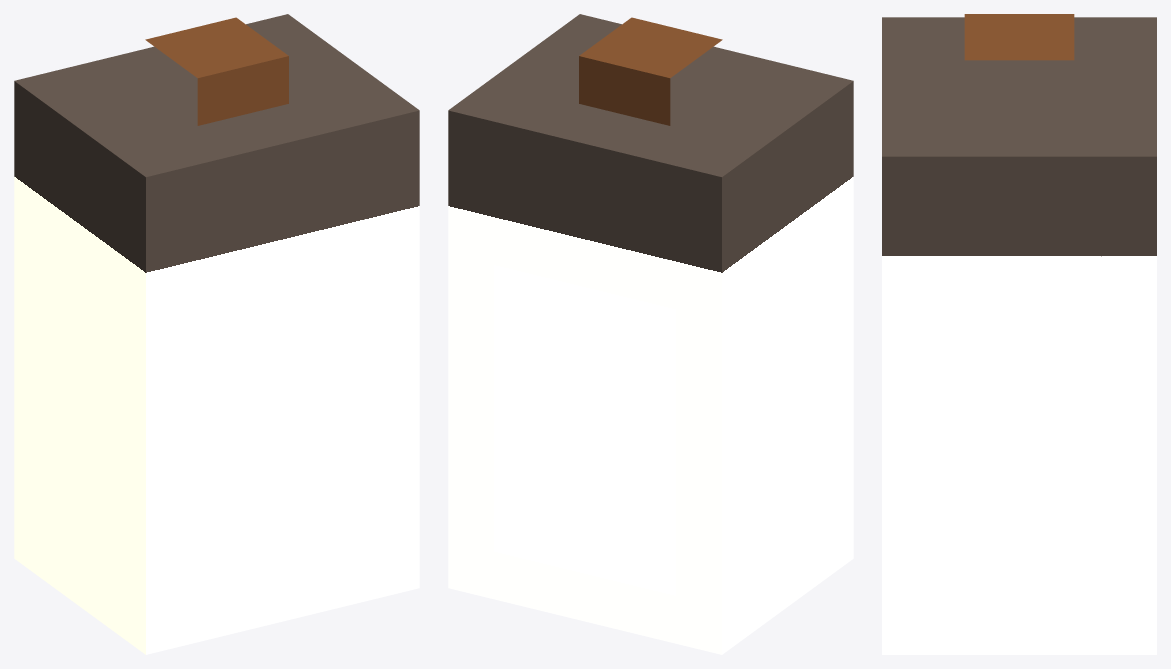
File: jar.glb
3 views of the same model, side by side, from view 1: azimuth 30°, elevation 25°; view 2: azimuth 150°, elevation 25°; view 3: azimuth 270°, elevation 25° (orthographic). The views are drawn at different scales.
Visible parts, largest first — view 1: jar; view 2: jar; view 3: jar.
Boxes of the visible parts, <box> form: jar: <box>14,14,419,654</box>; jar: <box>448,14,853,654</box>; jar: <box>882,14,1156,654</box>.
Size of the model in its own units: 6 by 11 by 5.
1 material, 1 textured.
